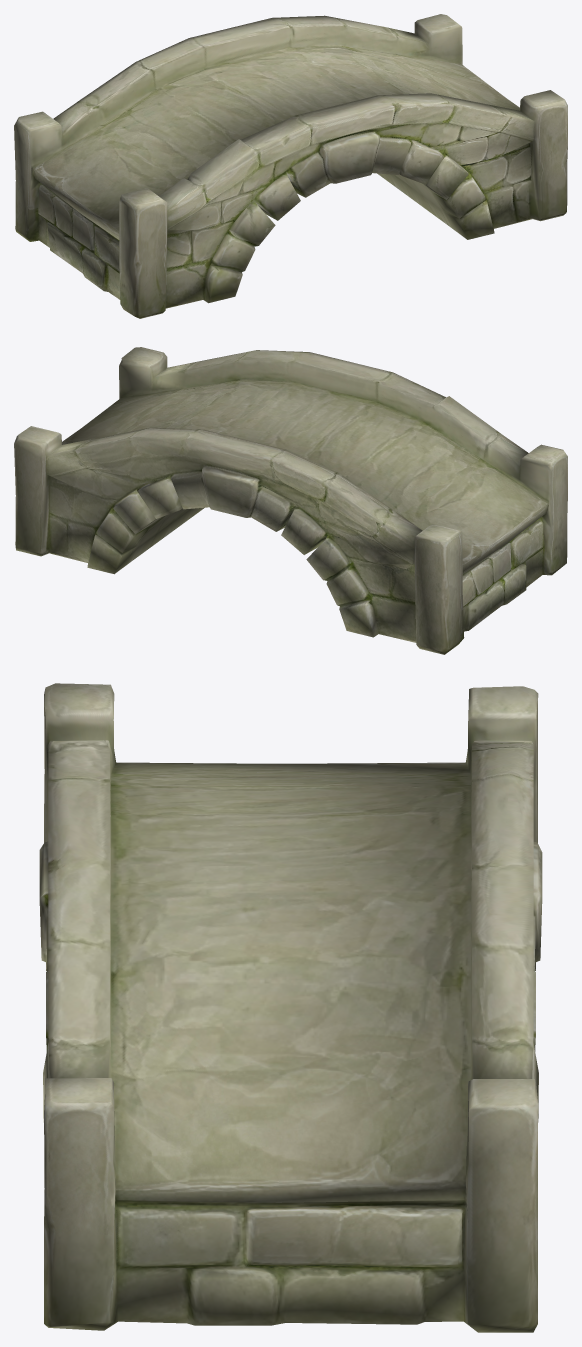
Rendered from ponticello.glb.
3 views of the same model, one above another, from view 1: azimuth 30°, elevation 25°; view 2: azimuth 150°, elevation 25°; view 3: azimuth 270°, elevation 25° (orthographic). The views are drawn at different scales.
Visible parts, largest first — view 1: ponticello; view 2: ponticello; view 3: ponticello.
Boxes of the visible parts, box(x1,y1,x2,y2) form: ponticello: box(14, 14, 567, 318); ponticello: box(14, 347, 567, 654); ponticello: box(39, 683, 542, 1332).
Size of the model in its own units: 0.9995 by 0.3384 by 0.4995.
Materials: 1 (1 with a texture image).
